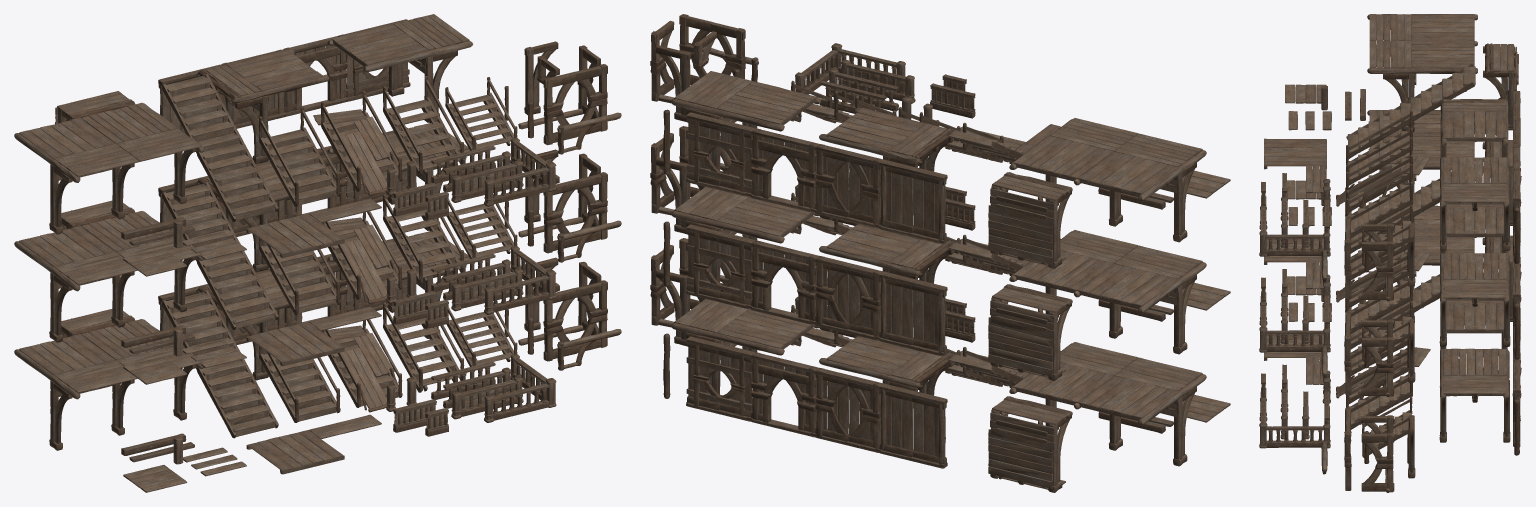
Rendered from Wood_Pieces_A1.fbx.
The picture shows the model from 3 angles, left to right: view 1: azimuth 30°, elevation 25°; view 2: azimuth 150°, elevation 25°; view 3: azimuth 270°, elevation 25°; orthographic projection. The views are drawn at different scales.
Visible parts, largest first — view 1: Wall_Pieces_Misc_A4.002, Wall_Pieces_Misc_A4, Wall_Pieces_Misc_A4.001, Stairs_A5.002, Stairs_A5, Stairs_A5.001, Wall_Pieces_Misc_A1.002, Wall_Pieces_Misc_A2.002, Stairs_A3.002, Stairs_A3, Stairs_A3.001, Stairs_A2.002 (+55 smaller); view 2: Wall_Pieces_Misc_A4.002, Wall_Pieces_Misc_A4.001, Wall_Pieces_Misc_A4, Wall_Pieces_Misc_A3.001, Wall_Pieces_Misc_A3, Wall_Pieces_Misc_A3.002, Wall_Pieces_Misc_A1.002, Wall_Pieces_Misc_A1, Wall_Pieces_Misc_A1.001, Building_Wall_A1, Building_Wall_A1.001, Building_Wall_A1.002 (+38 smaller); view 3: Wall_Pieces_Misc_A4.002, Wall_Pieces_Misc_A1.001, Wall_Pieces_Misc_A1.002, Wall_Pieces_Misc_A1, Wall_Pieces_Misc_A2.002, Stairs_A5.002, Wall_Pieces_Misc_A4.001, Stairs_A3.002, Wall_Pieces_Misc_A2, Wall_Pieces_Misc_A2.001, Wall_Pieces_Misc_A4, Stairs_A1.002 (+49 smaller).
Boxes of the visible parts, x1,y1,x2,y2 form: Wall_Pieces_Misc_A4.002: (14,102,204,234); Wall_Pieces_Misc_A4: (14,319,203,450); Wall_Pieces_Misc_A4.001: (14,211,203,342); Stairs_A5.002: (161,74,278,221); Stairs_A5: (161,290,278,438); Stairs_A5.001: (161,182,278,329); Wall_Pieces_Misc_A1.002: (327,14,472,122); Wall_Pieces_Misc_A2.002: (196,49,329,163); Stairs_A3.002: (313,91,402,195); Stairs_A3: (321,307,402,412); Stairs_A3.001: (322,199,402,304); Stairs_A2.002: (259,106,340,206); Wall_Pieces_Misc_A4.002: (1009,118,1206,242); Wall_Pieces_Misc_A4.001: (1009,230,1206,354); Wall_Pieces_Misc_A4: (1009,342,1206,466); Wall_Pieces_Misc_A3.001: (988,284,1072,380); Wall_Pieces_Misc_A3: (988,396,1072,492); Wall_Pieces_Misc_A3.002: (988,172,1072,268); Wall_Pieces_Misc_A1.002: (671,71,821,170); Wall_Pieces_Misc_A1: (671,299,820,402); Wall_Pieces_Misc_A1.001: (671,187,820,290); Building_Wall_A1: (879,383,947,468); Building_Wall_A1.001: (879,271,947,356); Building_Wall_A1.002: (879,159,947,244); Wall_Pieces_Misc_A4.002: (1367,14,1477,131); Wall_Pieces_Misc_A1.001: (1439,252,1510,346); Wall_Pieces_Misc_A1.002: (1440,157,1510,250); Wall_Pieces_Misc_A1: (1439,348,1510,442); Wall_Pieces_Misc_A2.002: (1440,99,1508,157); Stairs_A5.002: (1346,63,1475,158); Wall_Pieces_Misc_A4.001: (1367,110,1476,223); Stairs_A3.002: (1336,137,1430,212); Wall_Pieces_Misc_A2: (1440,300,1507,349); Wall_Pieces_Misc_A2.001: (1440,204,1507,253); Wall_Pieces_Misc_A4: (1382,205,1476,322); Stairs_A1.002: (1346,164,1412,237).
Bounding box in the file's own units: 2534 × 1409 × 1241.
